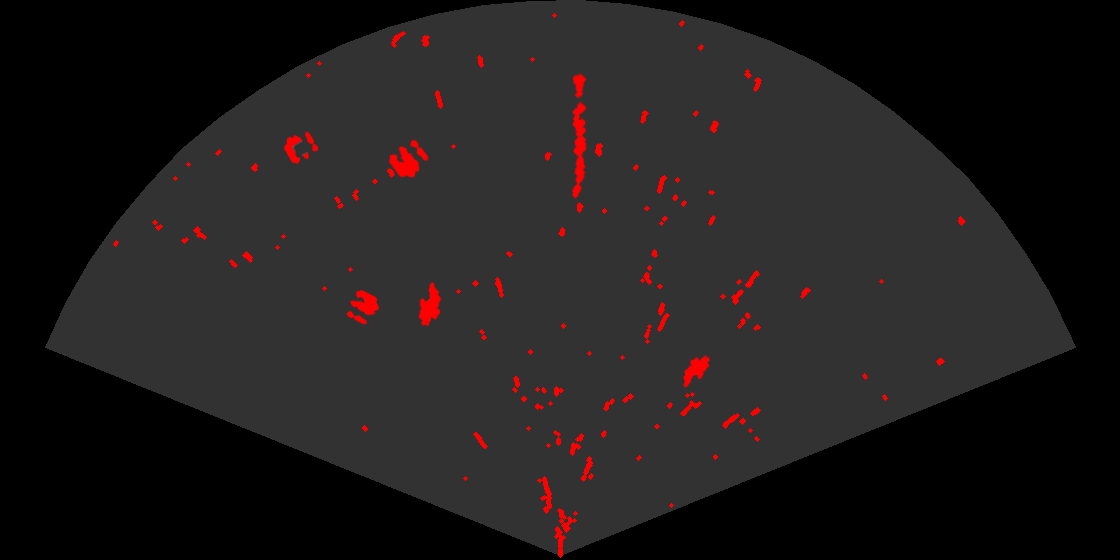AUV: (417, 280, 443, 328), (681, 354, 712, 389)
ball: (387, 138, 430, 180), (345, 288, 381, 326), (282, 130, 320, 166)
chain: (570, 72, 588, 200)
